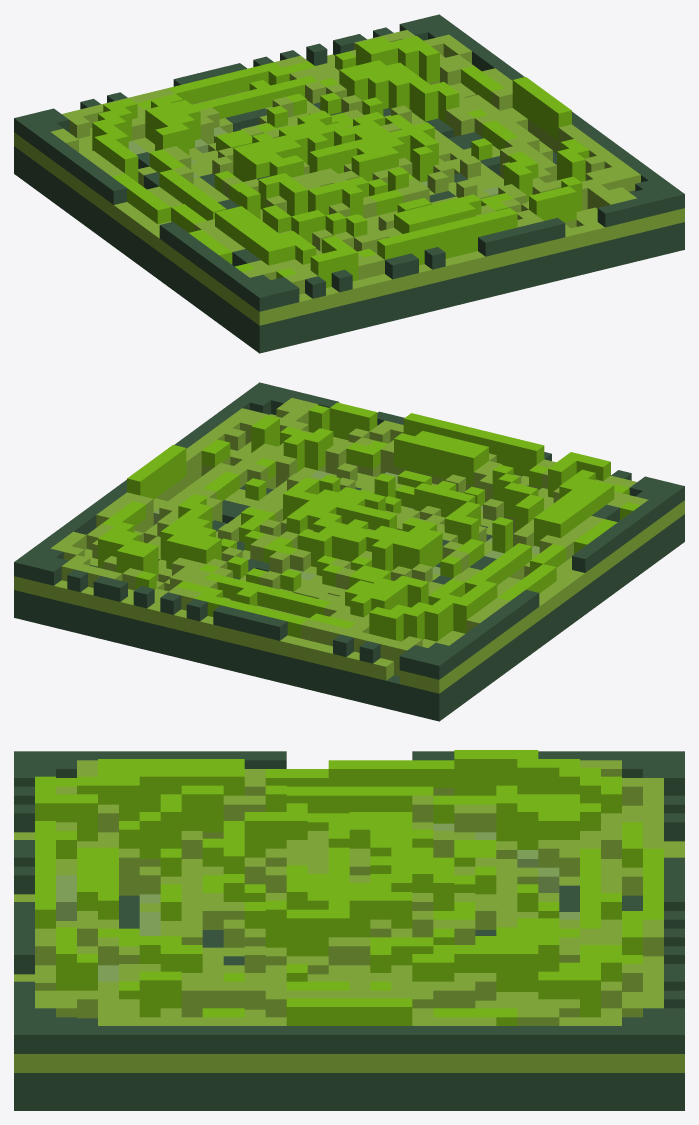
File: Кислота.obj
3 renders of one model, top to bottom at view 1: azimuth 30°, elevation 25°; view 2: azimuth 150°, elevation 25°; view 3: azimuth 270°, elevation 25°, orthographic. The views are drawn at different scales.
Size of the model in its own units: 3.2 by 0.5 by 3.2.
1 material, 1 textured.
